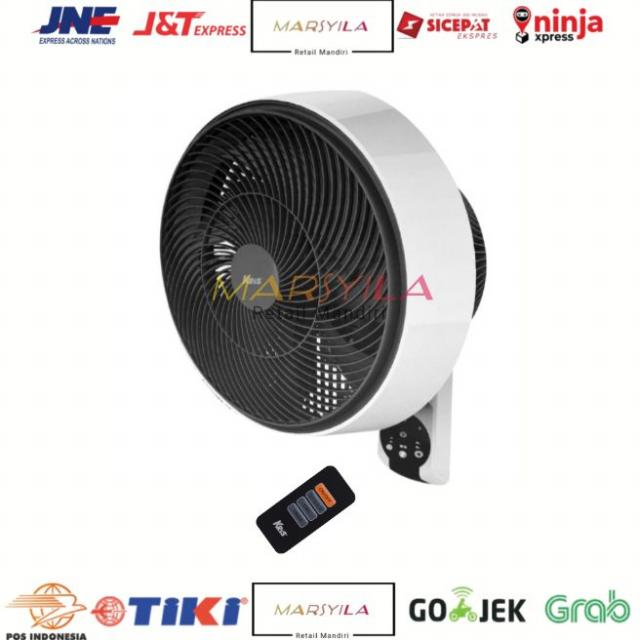fan: (126, 78, 549, 562)
